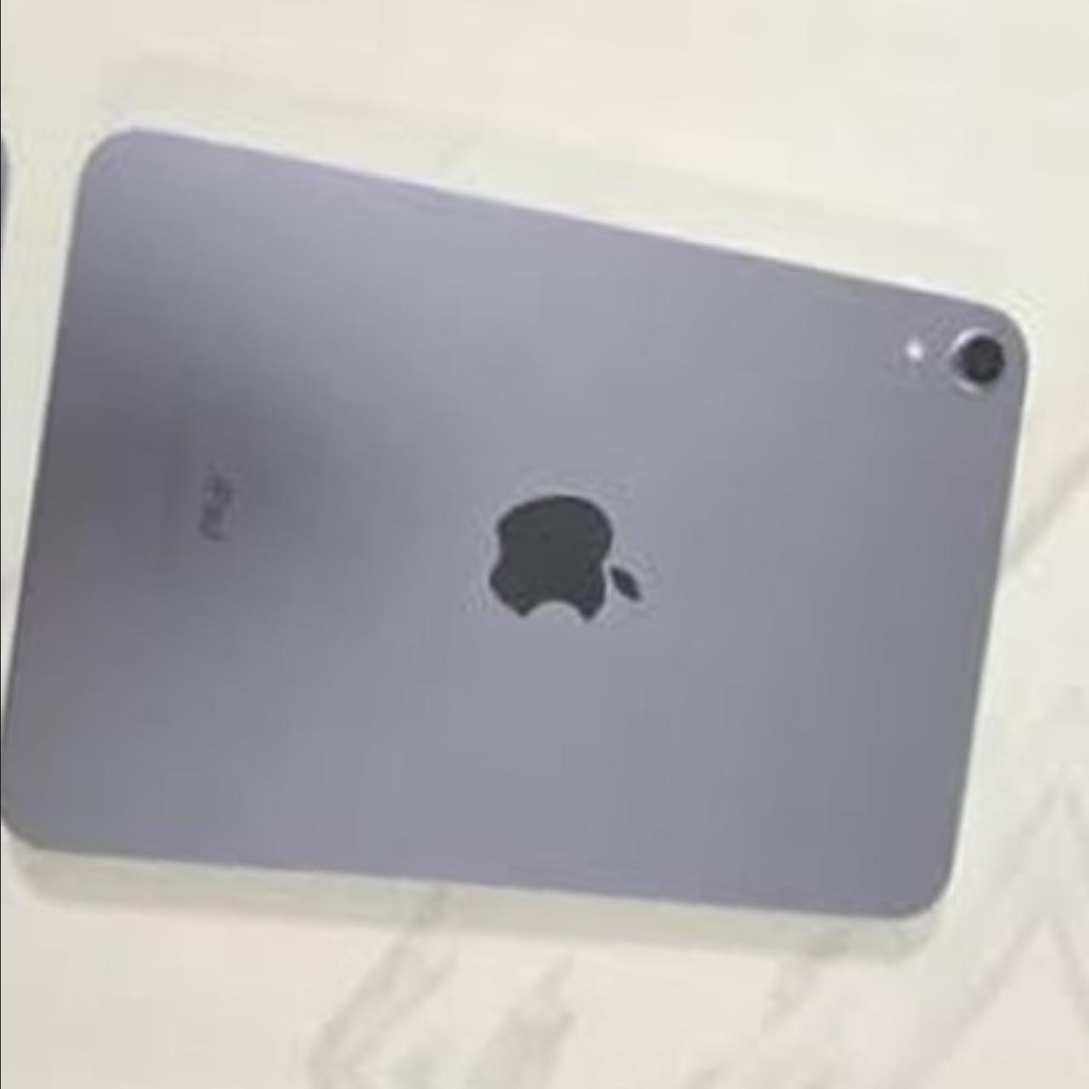Tablet_PC: (0, 99, 1063, 994)
